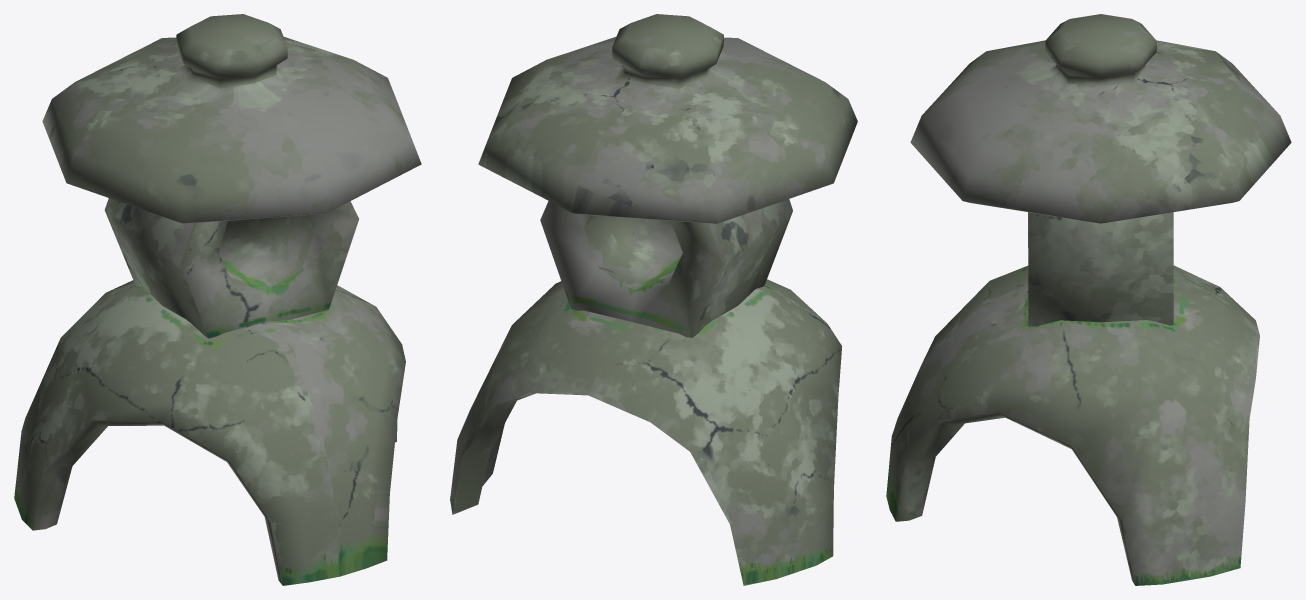
File: Lantern_Mid.fbx
The picture shows the model from 3 angles, left to right: view 1: azimuth 30°, elevation 25°; view 2: azimuth 150°, elevation 25°; view 3: azimuth 270°, elevation 25°; orthographic projection.
Parts seen in each view (by area): view 1: Main Lantern.Mid; view 2: Main Lantern.Mid; view 3: Main Lantern.Mid.
Boxes of the visible parts, x1=… form: Main Lantern.Mid: x1=14, y1=14, x2=421, y2=585; Main Lantern.Mid: x1=450, y1=14, x2=857, y2=585; Main Lantern.Mid: x1=886, y1=14, x2=1291, y2=585.
Bounding box in the file's own units: 44.83 × 55.5 × 43.33.
